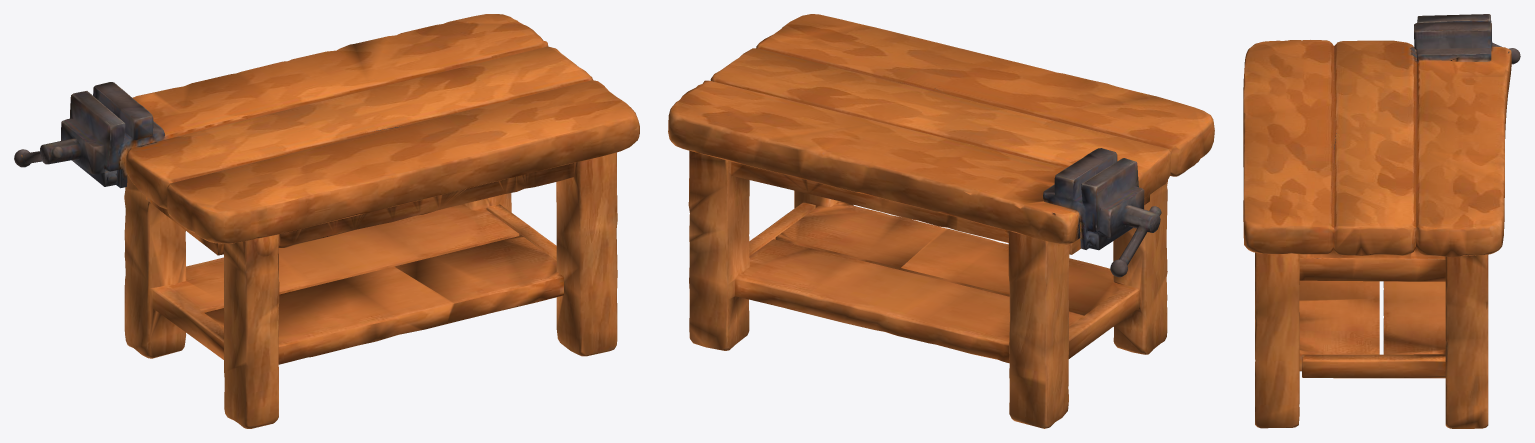
Rendered from workbench.glb.
3 renders of one model, left to right at view 1: azimuth 30°, elevation 25°; view 2: azimuth 150°, elevation 25°; view 3: azimuth 270°, elevation 25°, orthographic. The views are drawn at different scales.
Parts seen in each view (by area): view 1: workbench; view 2: workbench; view 3: workbench.
Boxes of the visible parts, x1=… form: workbench: x1=14, y1=14, x2=639, y2=428; workbench: x1=668, y1=14, x2=1214, y2=428; workbench: x1=1243, y1=14, x2=1520, y2=428.
Bounding box in the file's own units: 2.69 × 1.4 × 1.49.
Materials: 1 (1 with a texture image).
